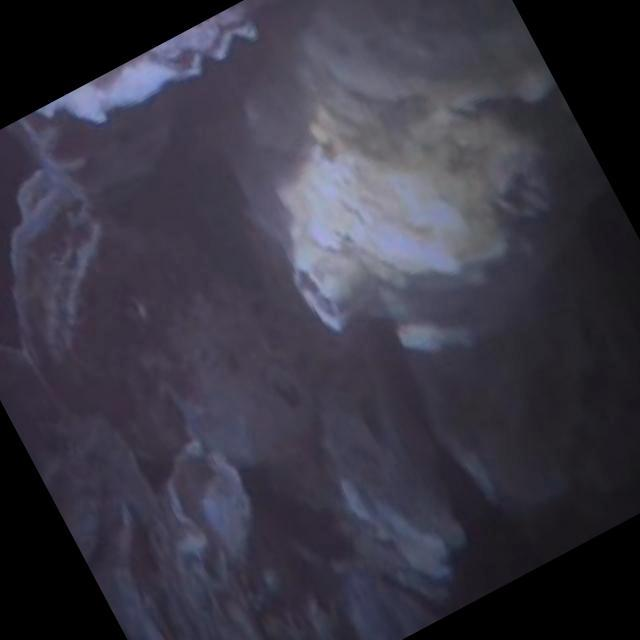Oyster-Closed: (236, 0, 614, 342), (4, 163, 113, 424)
Oyster-Open: (304, 316, 447, 561), (45, 0, 269, 125), (160, 435, 253, 590)
